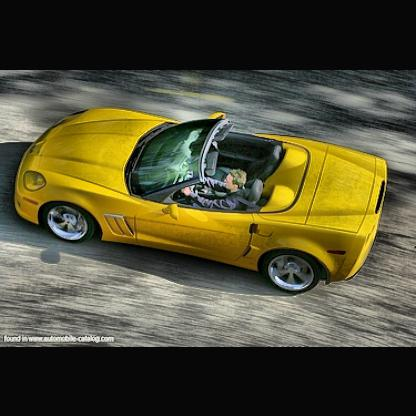Chevrolet Corvette Convertible 2012: (18, 108, 389, 295)
